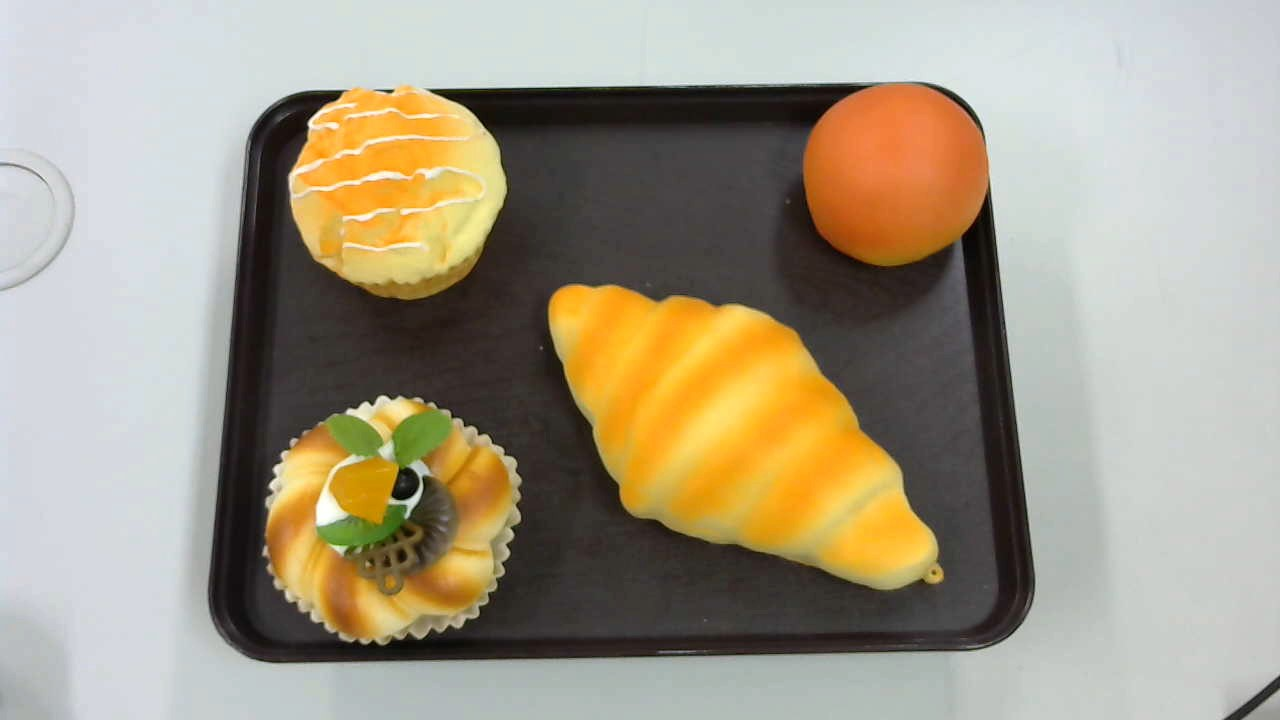bun: (803, 83, 990, 267)
croissant: (547, 282, 946, 591)
cupcake: (289, 86, 508, 301)
fruit tart: (260, 395, 523, 643)
